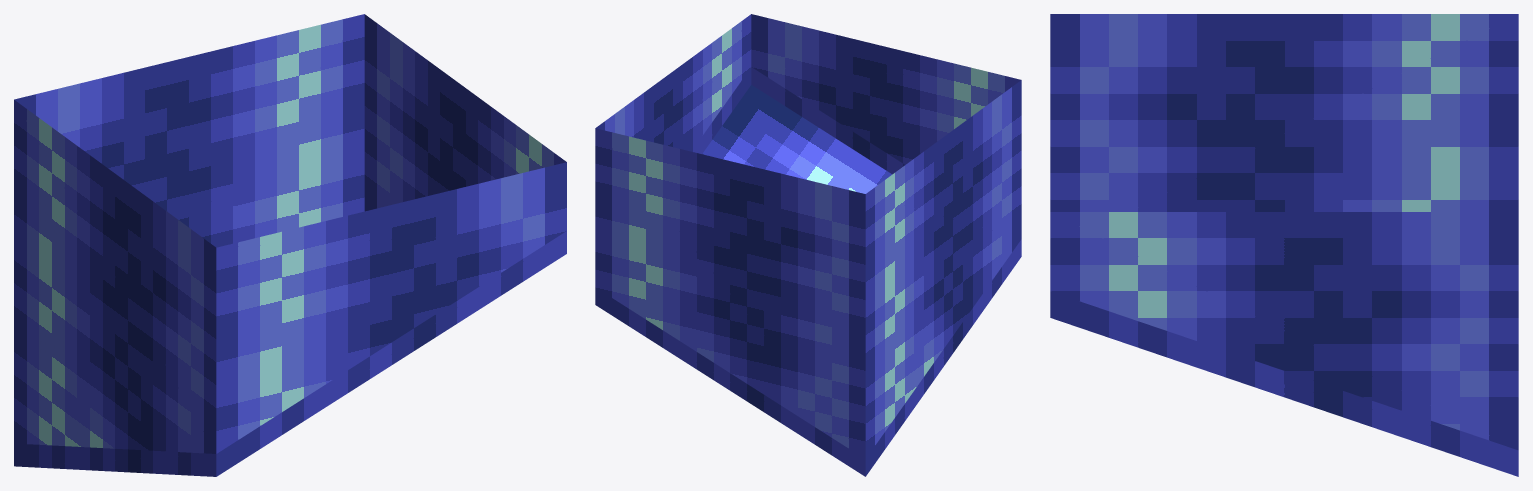
Rendered from vinteum_crystal_block_bottom.obj.
3 renders of one model, left to right at view 1: azimuth 30°, elevation 25°; view 2: azimuth 150°, elevation 25°; view 3: azimuth 270°, elevation 25°, orthographic. The views are drawn at different scales.
Parts seen in each view (by area): view 1: VINTEUM_CRYSTAL_BLOCK_BOTTOM_Cube.003; view 2: VINTEUM_CRYSTAL_BLOCK_BOTTOM_Cube.003; view 3: VINTEUM_CRYSTAL_BLOCK_BOTTOM_Cube.003.
Part boxes in pixels (left/top/right/bottom): VINTEUM_CRYSTAL_BLOCK_BOTTOM_Cube.003: left=14, top=14, right=566, bottom=476; VINTEUM_CRYSTAL_BLOCK_BOTTOM_Cube.003: left=595, top=14, right=1021, bottom=476; VINTEUM_CRYSTAL_BLOCK_BOTTOM_Cube.003: left=1050, top=14, right=1518, bottom=476.
Bounding box in the file's own units: 1 × 1 × 1.
